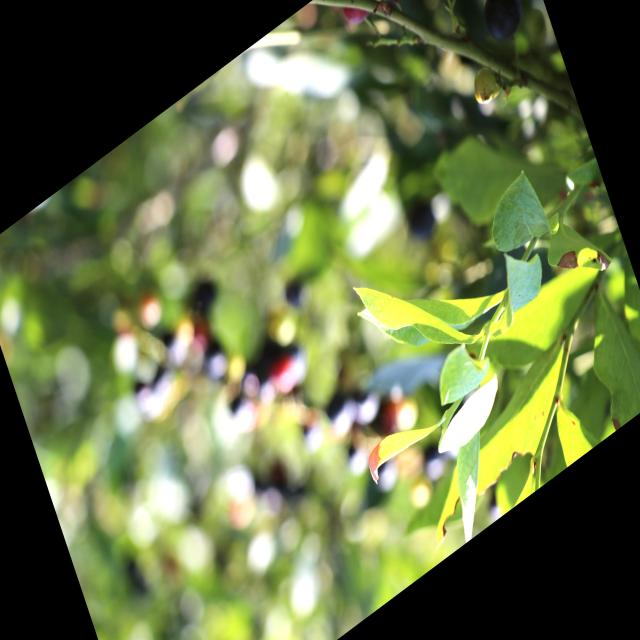blueberry: (474, 0, 530, 54), (361, 0, 411, 10), (408, 0, 466, 2)
blueberry-halfripe: (337, 0, 378, 34)
blueberry-unripe: (468, 59, 504, 113)
